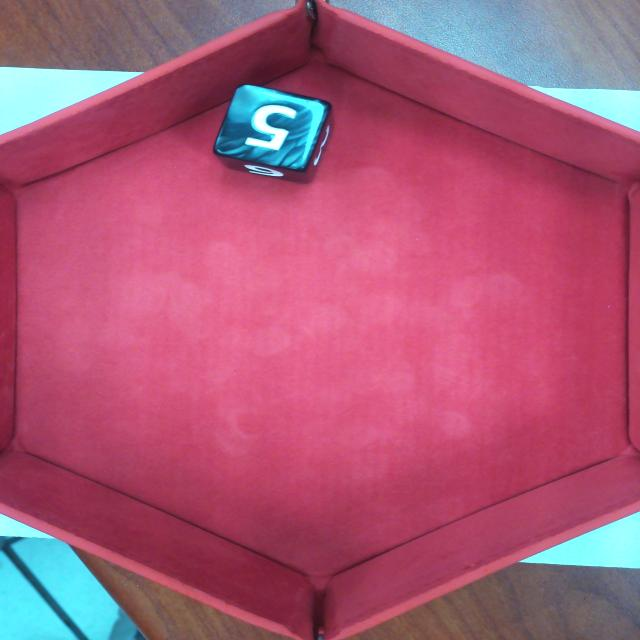dice: (205, 78, 336, 174)
